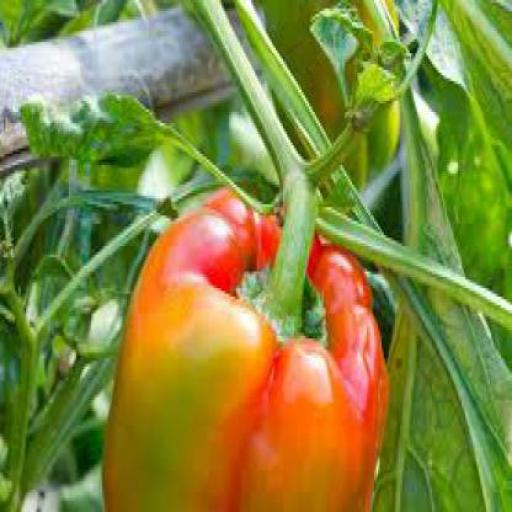biodegradable: (100, 181, 390, 509)
